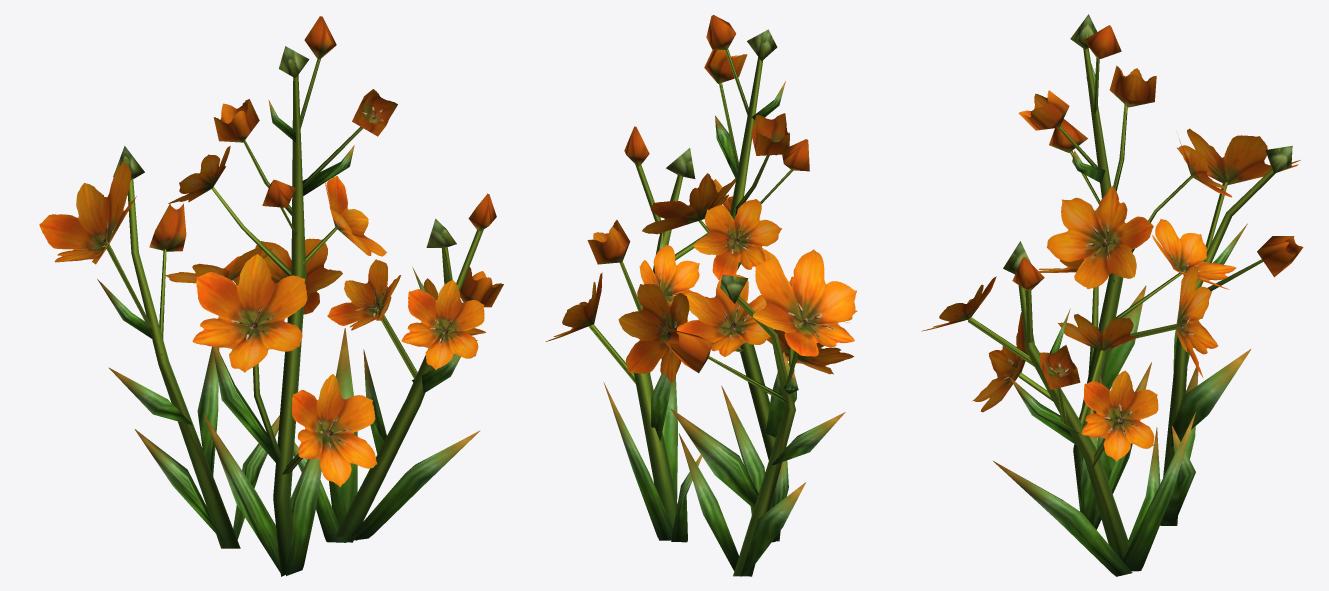
Rendered from wm_灌木杜宾花01.fbx.
3 renders of one model, left to right at view 1: azimuth 30°, elevation 25°; view 2: azimuth 150°, elevation 25°; view 3: azimuth 270°, elevation 25°, orthographic. The views are drawn at different scales.
Visible parts, largest first — view 1: wm_灌木杜宾花01; view 2: wm_灌木杜宾花01; view 3: wm_灌木杜宾花01.
Part boxes in pixels (x1,y1,x2,y2): wm_灌木杜宾花01: (39, 16, 503, 576); wm_灌木杜宾花01: (546, 15, 857, 576); wm_灌木杜宾花01: (921, 14, 1303, 576).
Size of the model in its own units: 220 by 298 by 207.
